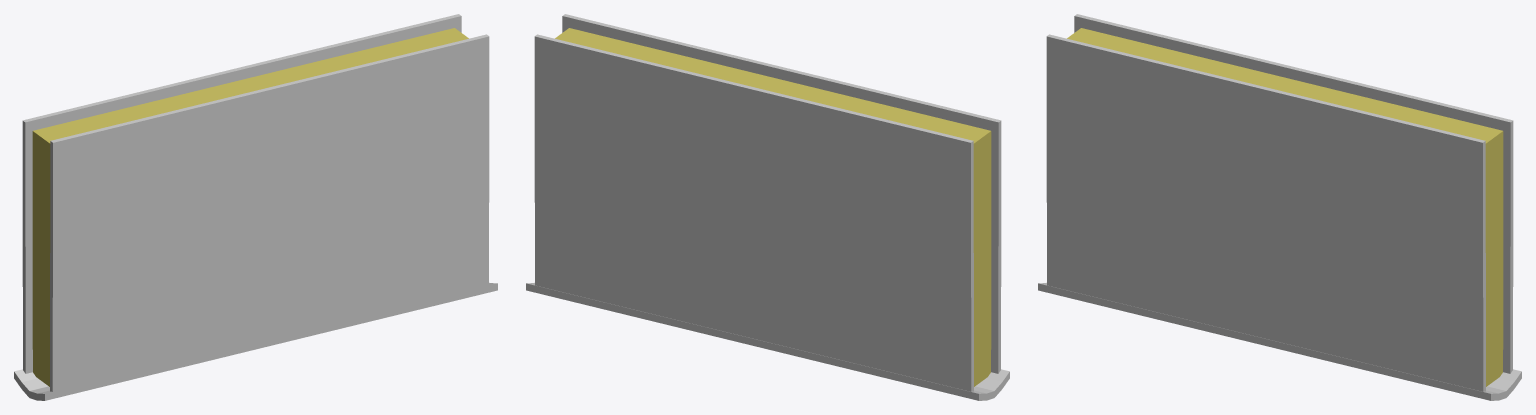
The model's file is SpellBookClosed.fbx.
3 views of the same model, side by side, from view 1: azimuth 30°, elevation 25°; view 2: azimuth 150°, elevation 25°; view 3: azimuth 330°, elevation 25° (orthographic).
Visible parts, largest first — view 1: Cube.000; view 2: Cube.000; view 3: Cube.000.
Part boxes in pixels (x1,y1,x2,y2): Cube.000: (14, 14, 497, 400); Cube.000: (526, 14, 1009, 400); Cube.000: (1038, 14, 1521, 400).
Bounding box in the file's own units: 208 × 116 × 24.42.
